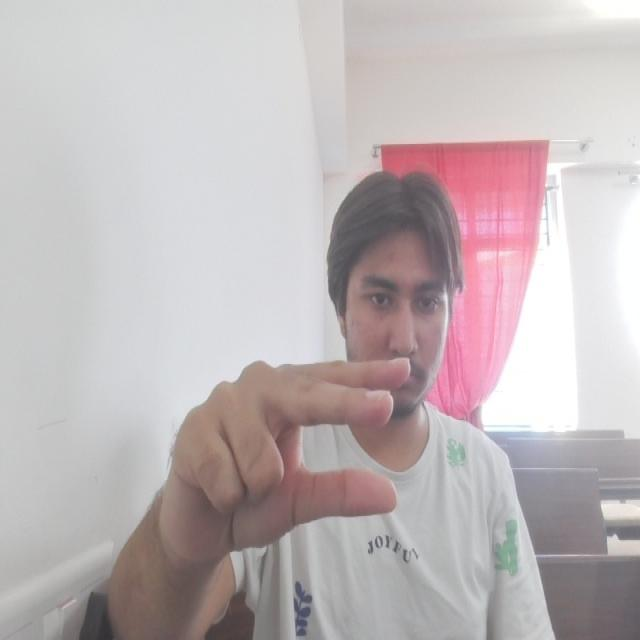no: (166, 357, 412, 550)
